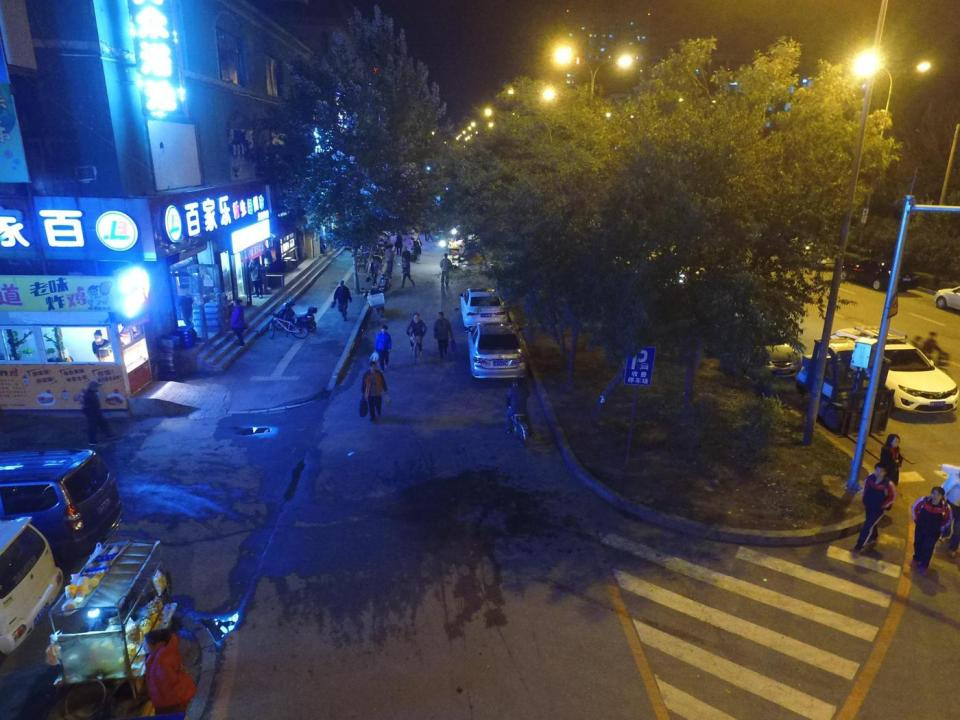car: (838, 328, 960, 411), (734, 314, 803, 379), (467, 321, 525, 378), (838, 258, 916, 293), (461, 288, 510, 330)
van: (0, 450, 121, 562), (0, 516, 64, 664)
